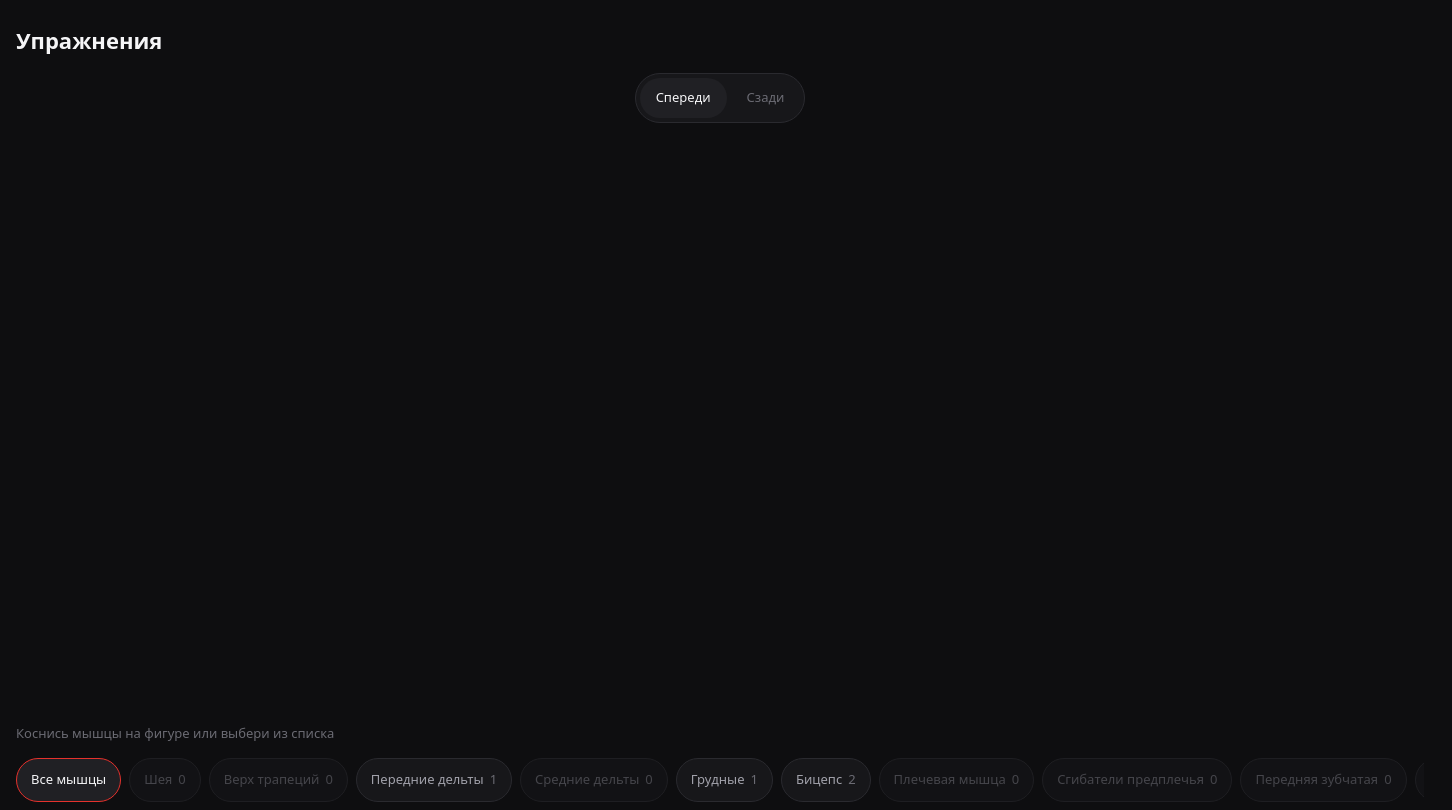
Scenario: выбор мышцы чипом: фильтр, подпись по-русски, повторное касание снимает
Expected: the text "Коснись мышцы на фигуре или выбери из списка" is shown, [16,724,334,744]
Click the button "Грудные 1" at coordinates (724, 780), box [676,758,773,802]
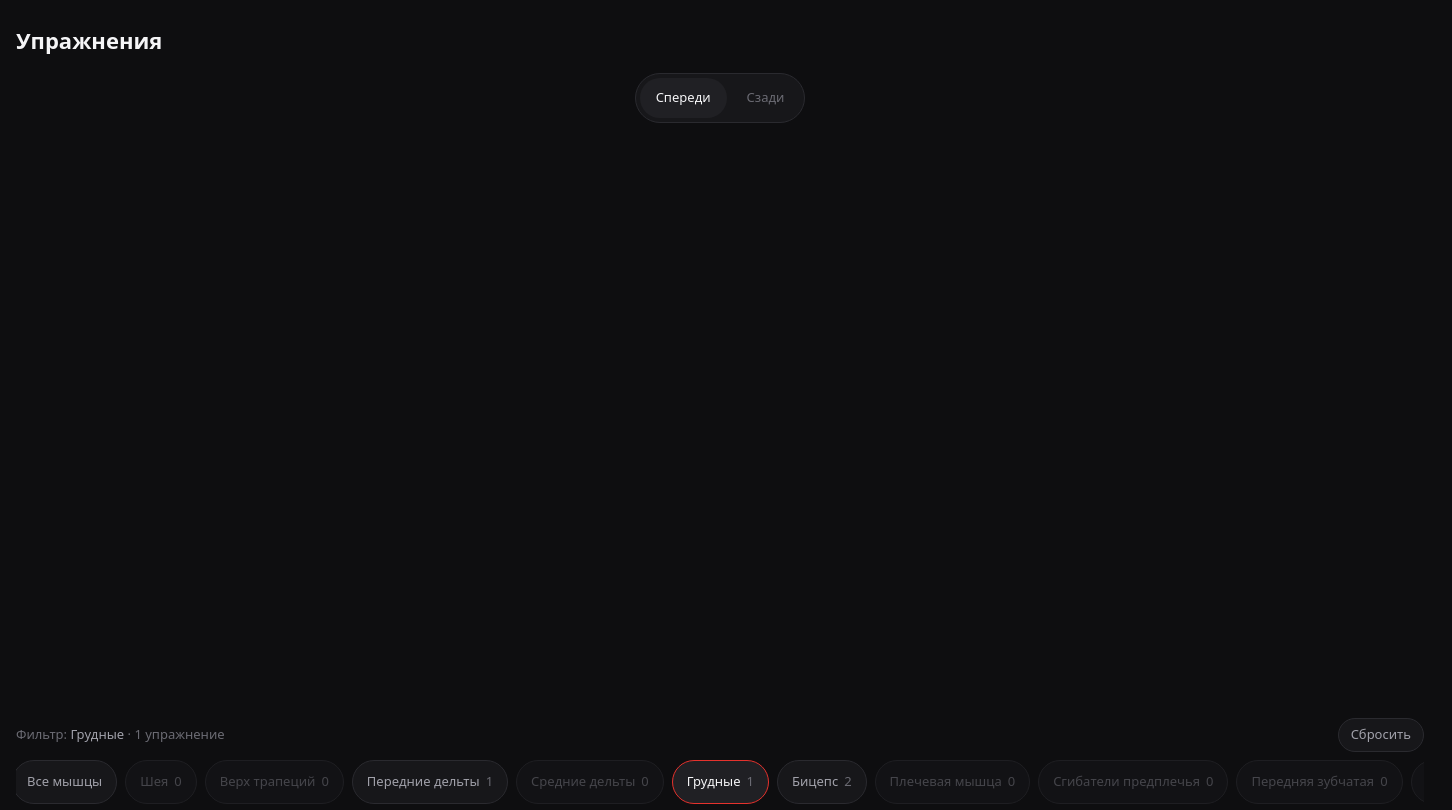
Expected: the text "Фильтр: Грудные · 1 упражнение" is shown, [16,725,225,744]
Повторное касание того же чипа снимает фильтр.
Click the button "Грудные 1" at coordinates (720, 782), box [672,760,769,804]
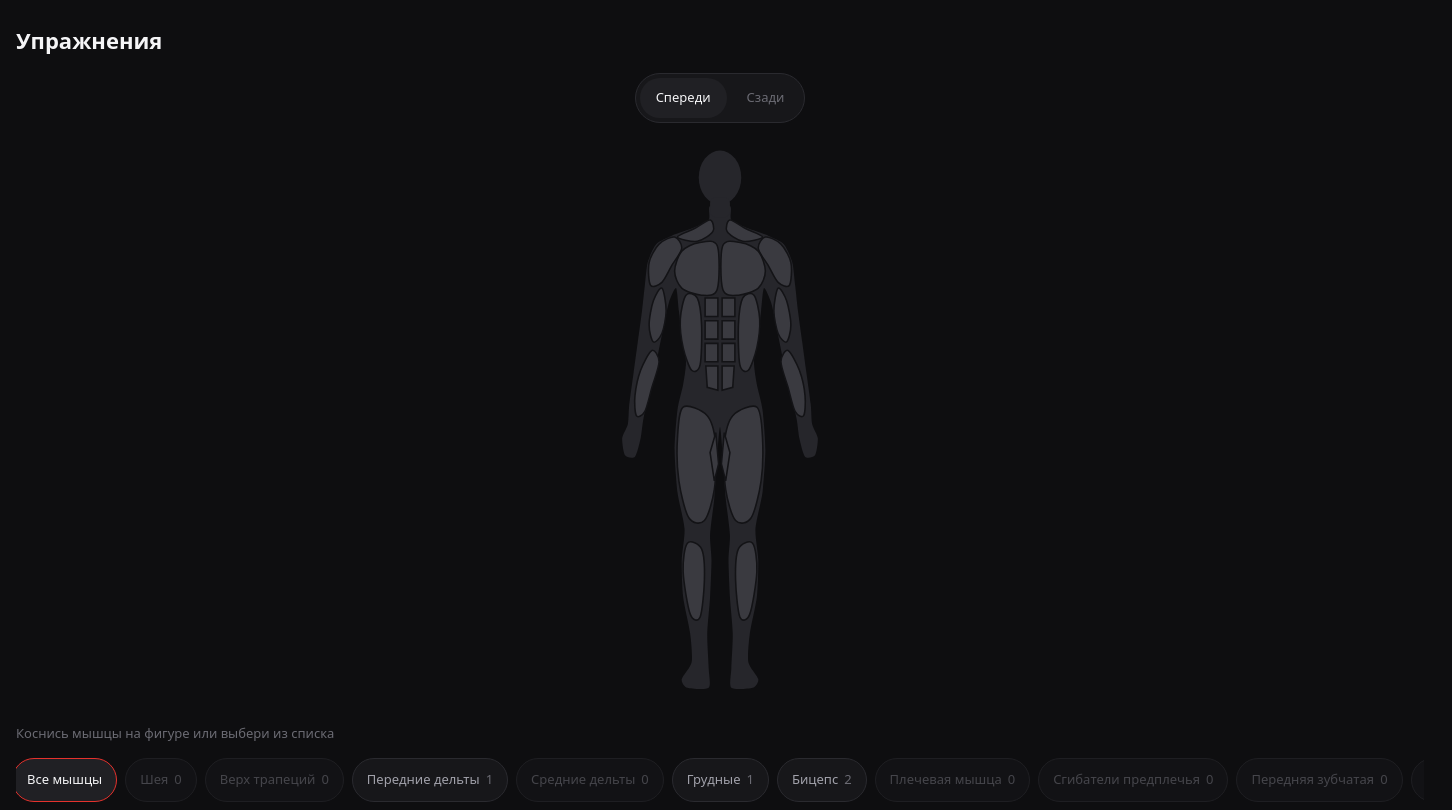
Expected: the text "Фильтр:" is gone
